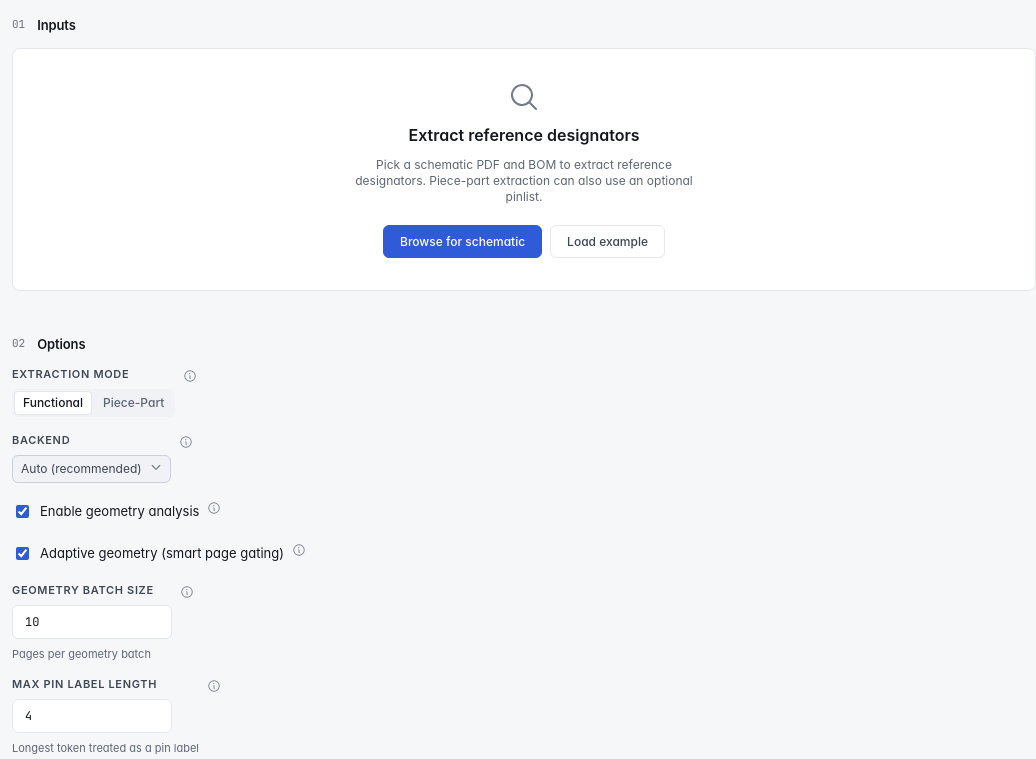
Test: RefDesExtractorTool numeric tuning fields › disables the geometry batch size field when geometry analysis is off
The image size is (1036, 759).
Check: the number field labelled "Geometry batch size" is enabled, box [12,605,172,639]
Click the checkbox labelled "Enable geometry analysis": (22, 511) [16,505,29,518]
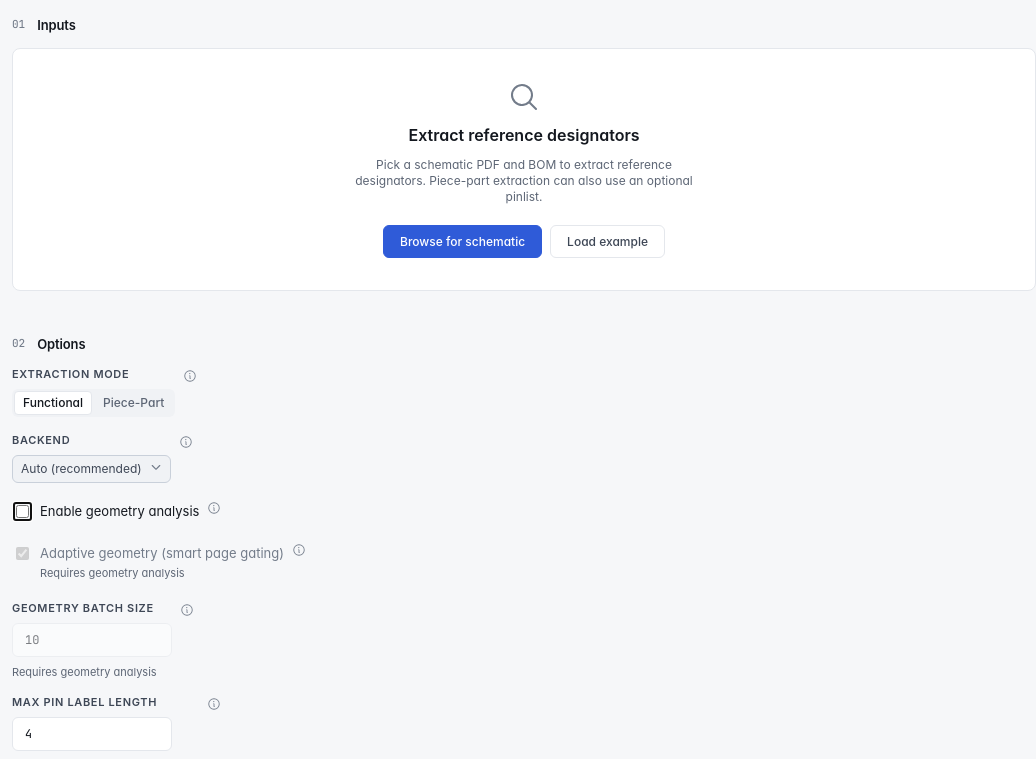
Check: the number field labelled "Max pin label length" is enabled, box [12,717,172,751]
Check: the number field labelled "Geometry batch size" is disabled, box [12,623,172,657]
Click the checkbox labelled "Enable geometry analysis": (22, 511) [16,505,29,518]
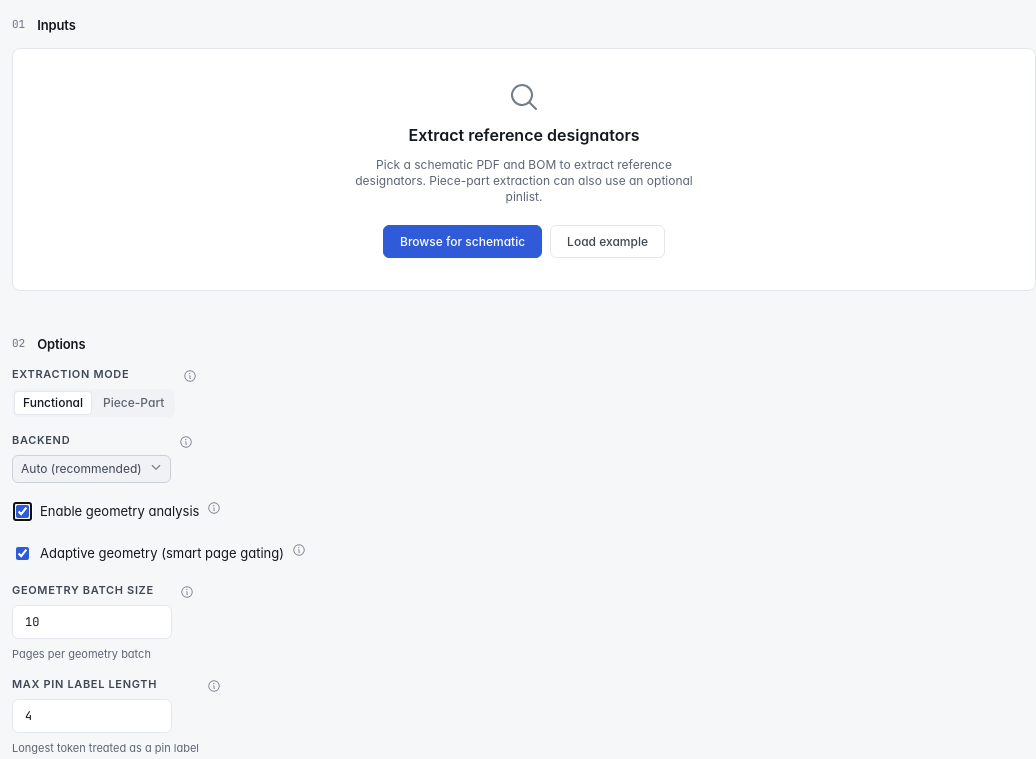
Check: the number field labelled "Geometry batch size" is enabled, box [12,605,172,639]
